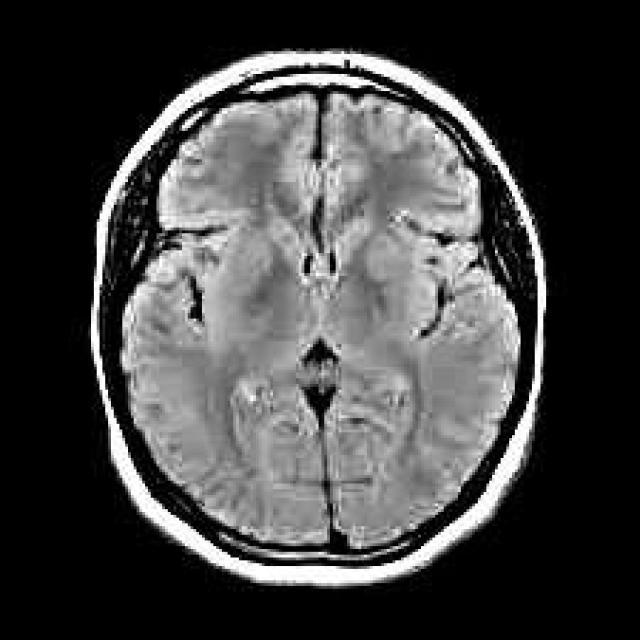notumor: (91, 51, 543, 583)
